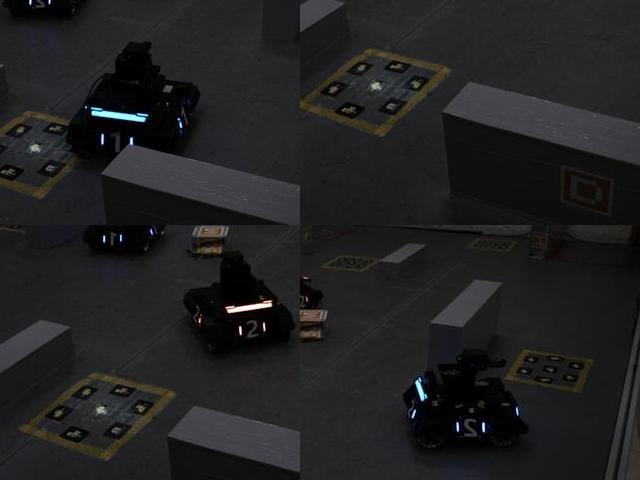armor: (94, 126, 139, 163), (453, 413, 491, 443), (233, 318, 271, 344), (172, 103, 192, 137), (98, 228, 127, 251), (22, 0, 55, 16), (187, 299, 204, 330), (404, 393, 419, 425), (300, 290, 314, 313)
